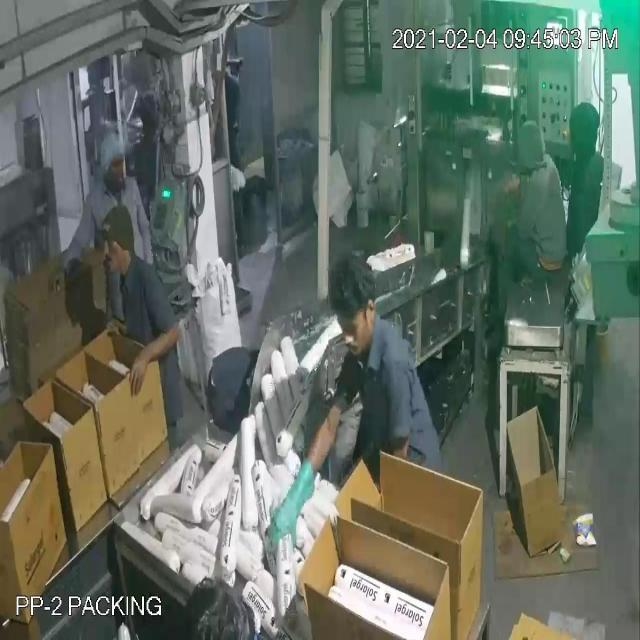No_Gloves: (42, 68, 290, 504)
